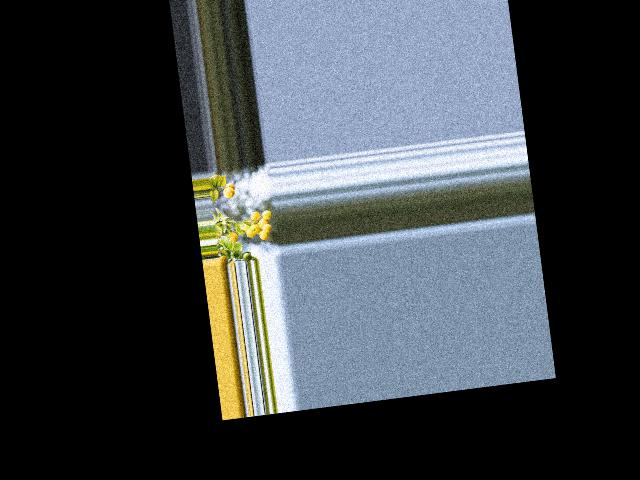lemon: (258, 228, 273, 240)
